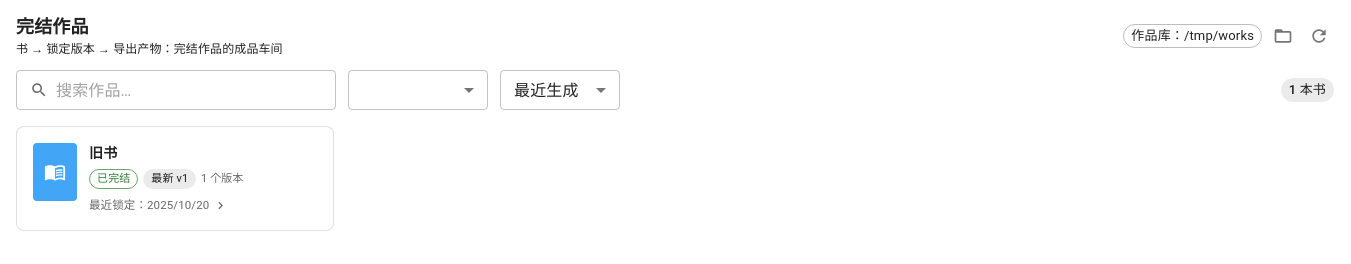
Test: ㉱ E-A′ 真渲染：单位词跟着书的体裁走 › 旧书（genre 空 = 小说口径）：逐字零回归「12章 · 20.0万字」「快照章节（1）」
The width and height of the screenshot is (1351, 264).
Click the element with test id "published-book-card-bn" at (175, 178), box left=16, top=126, right=334, bottom=231
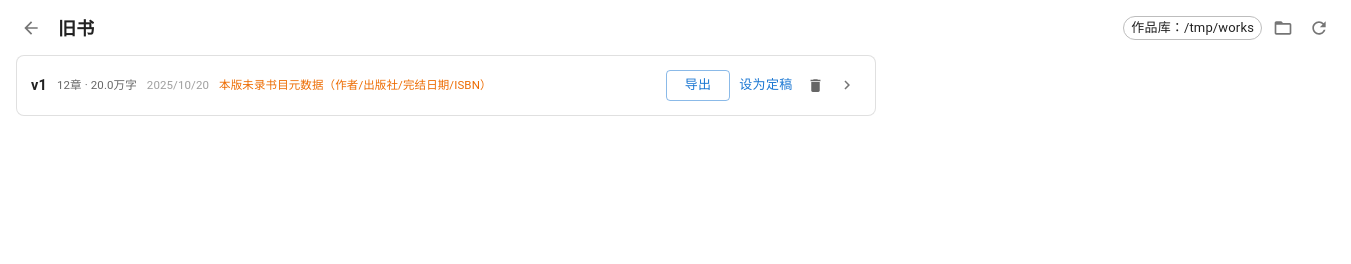
Click the button with test id "published-version-detail-1" at (847, 85), box left=833, top=71, right=861, bottom=99
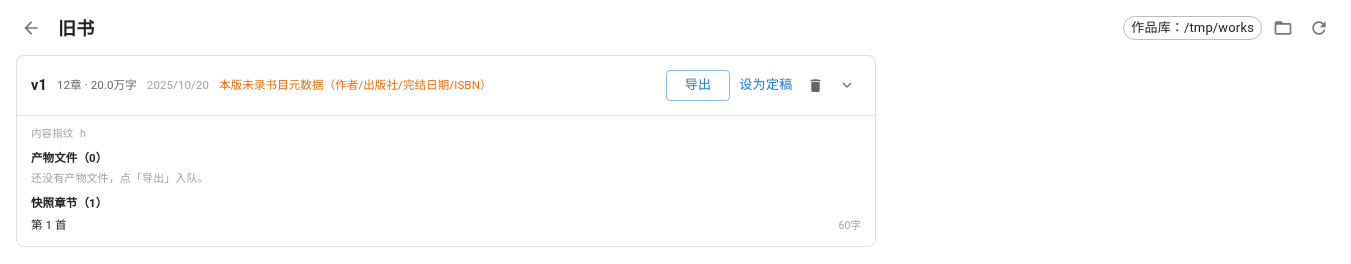
Now the text "快照章节（1）" is shown, box left=31, top=196, right=107, bottom=210
